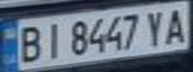4: (103, 12, 127, 52), (87, 15, 109, 54)
7: (121, 10, 142, 51)
8: (66, 17, 90, 56)
A: (160, 4, 190, 45)
B: (12, 21, 45, 64)
I: (39, 20, 66, 60)
Y: (142, 7, 172, 47)
